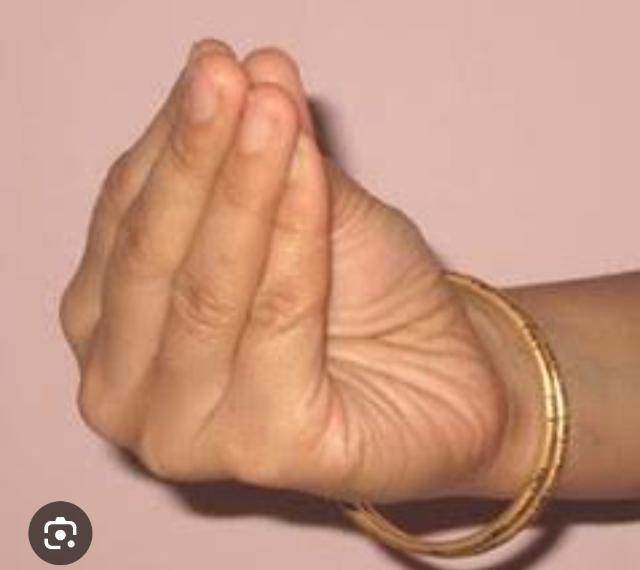mukul: (58, 38, 569, 562)
